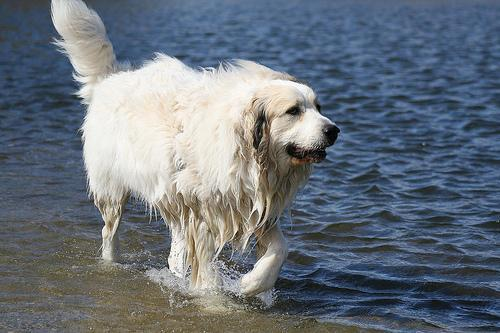Great_Pyrenees: (50, 1, 342, 300)
